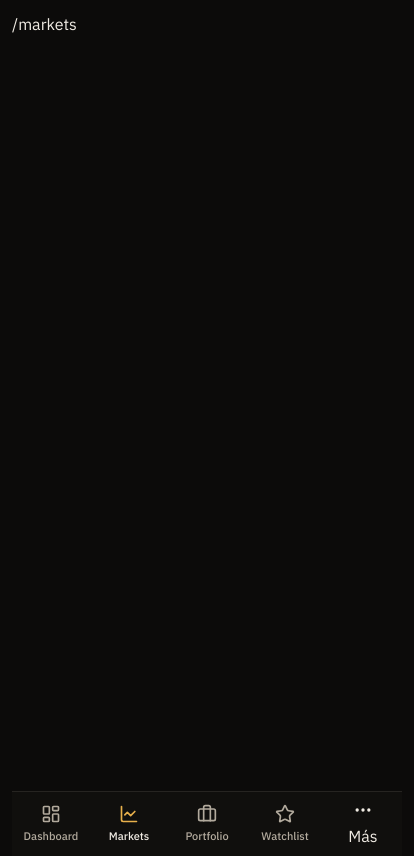
BottomNav › More menu › navigates and closes the menu when an option is selected
The width and height of the screenshot is (414, 856).
Click the button "Más".
click(363, 824)  # box [324, 792, 402, 855]
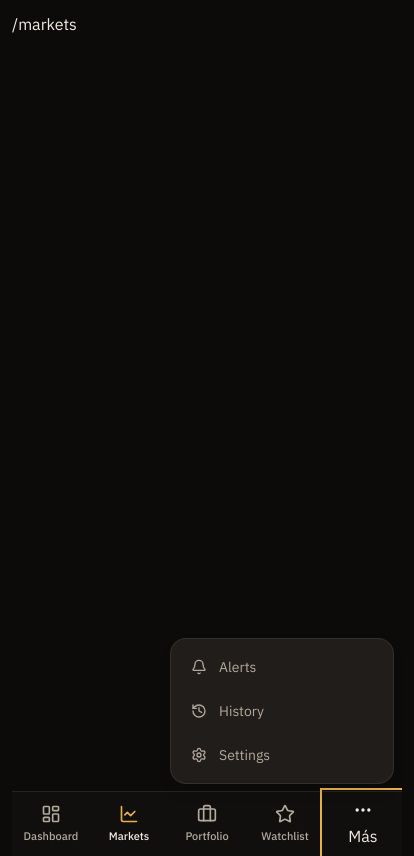
Click the link "History".
click(228, 711)  # box [191, 702, 264, 720]
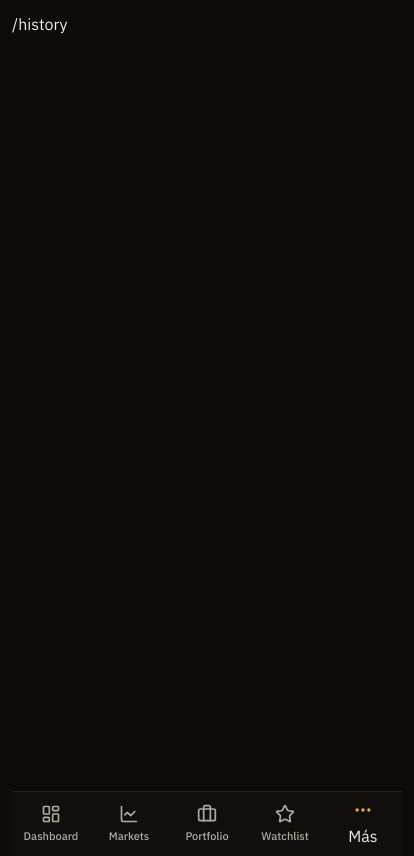
Now the text with test id "where" reads "/history", box [12, 14, 67, 34]
Now the link "Alerts" is gone
